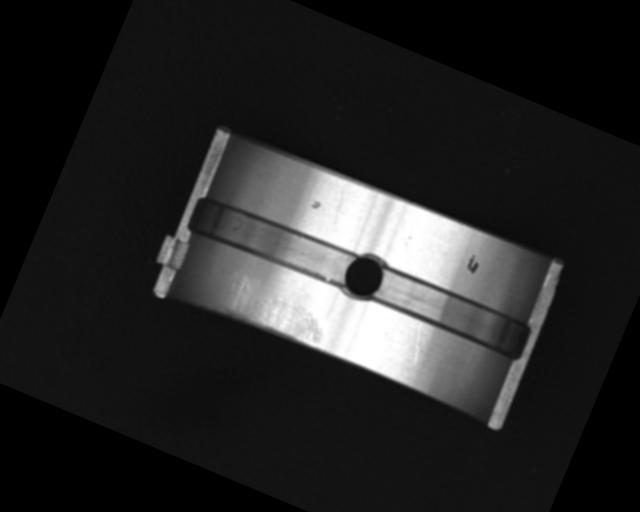blot: (463, 253, 482, 276)
bruise: (309, 198, 322, 211)
gap: (184, 188, 362, 296), (367, 262, 537, 365)
hole: (335, 247, 391, 309)
nick: (404, 321, 432, 366), (329, 190, 348, 224)
scratch: (218, 271, 334, 353)
